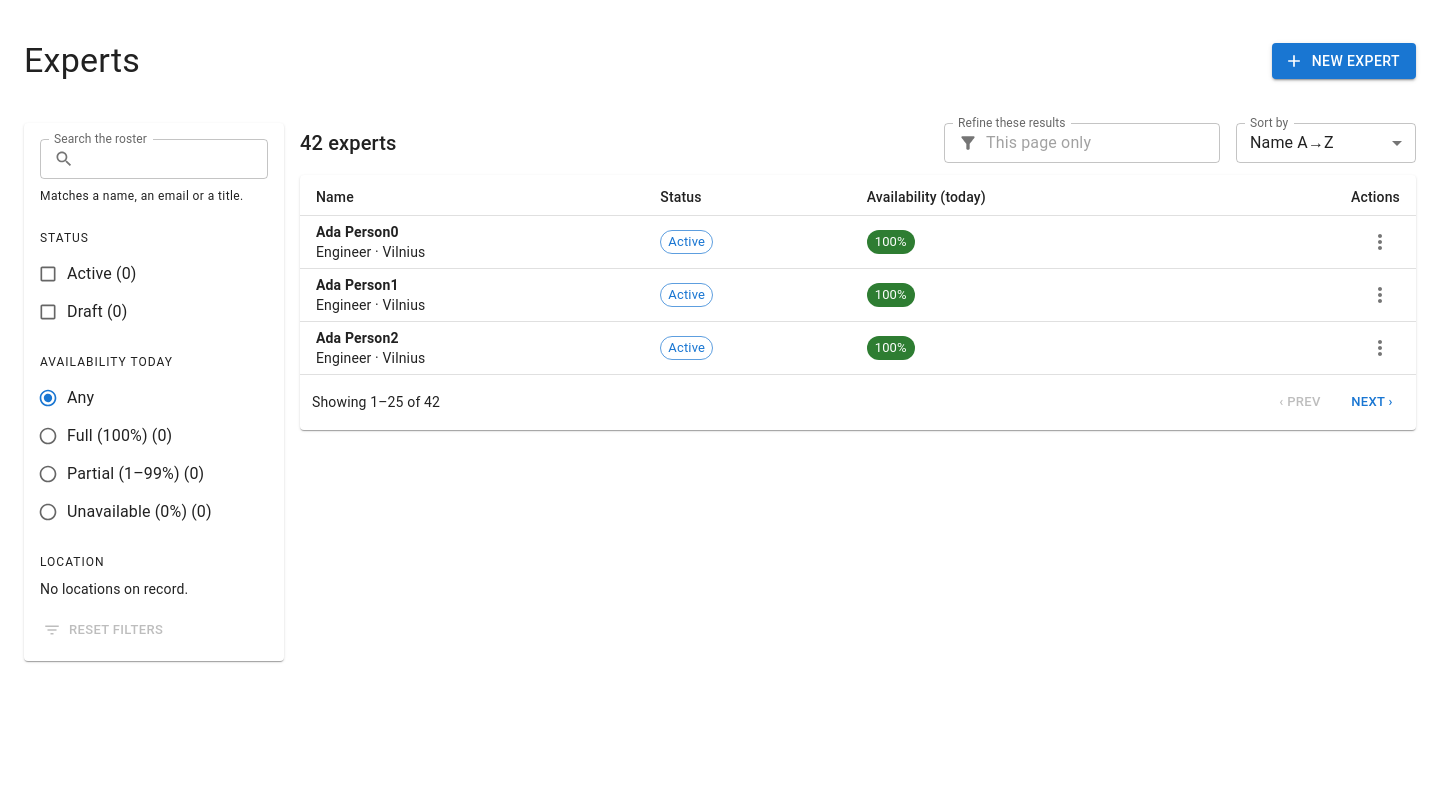
Test: the roster's view is the server's query › stops at the last page
Click the button "Next ›" at [1372, 402], box [1340,387,1404,418]
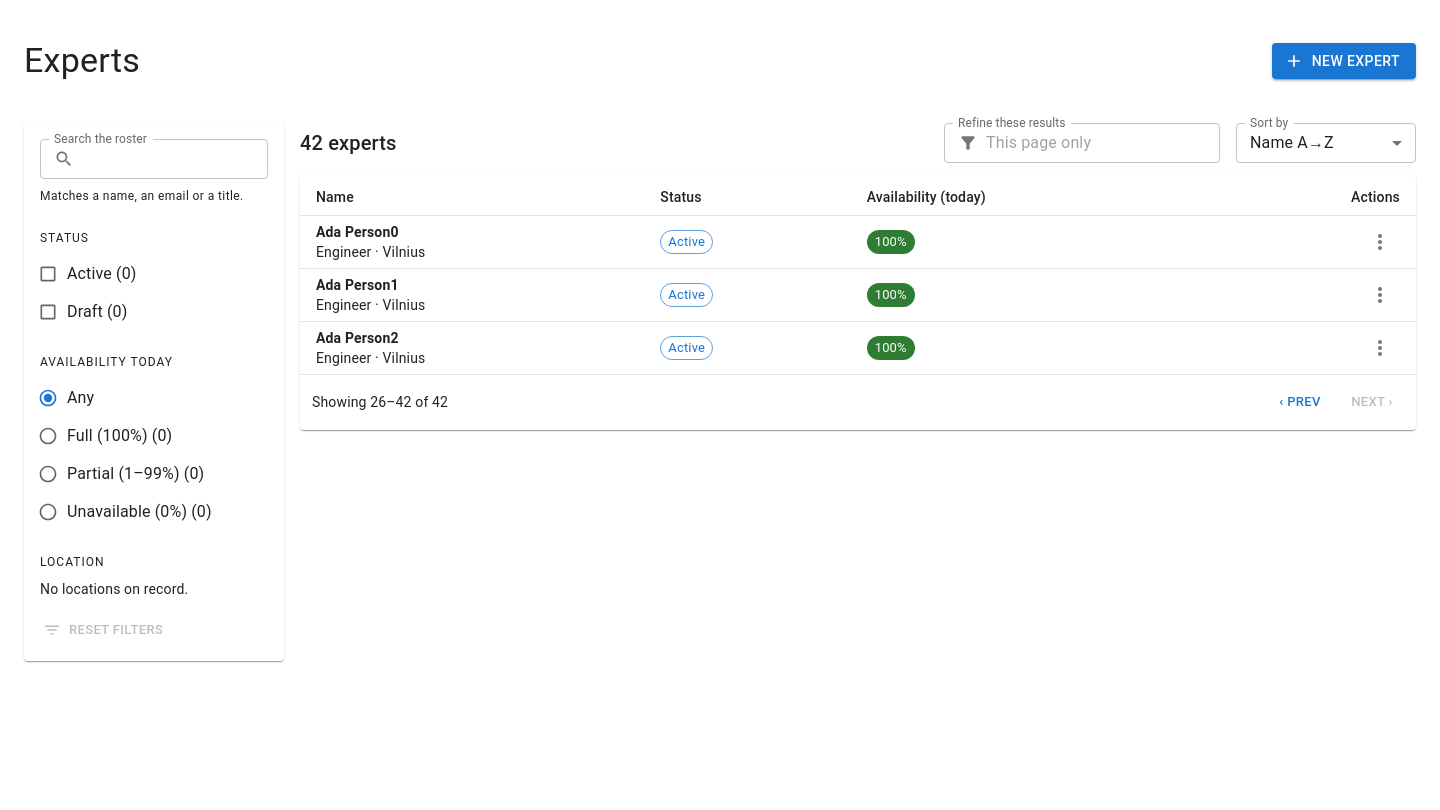
Check: the button "Next ›" is disabled, box [1340,387,1404,418]
Check: the button "‹ Prev" is enabled, box [1268,387,1332,418]
